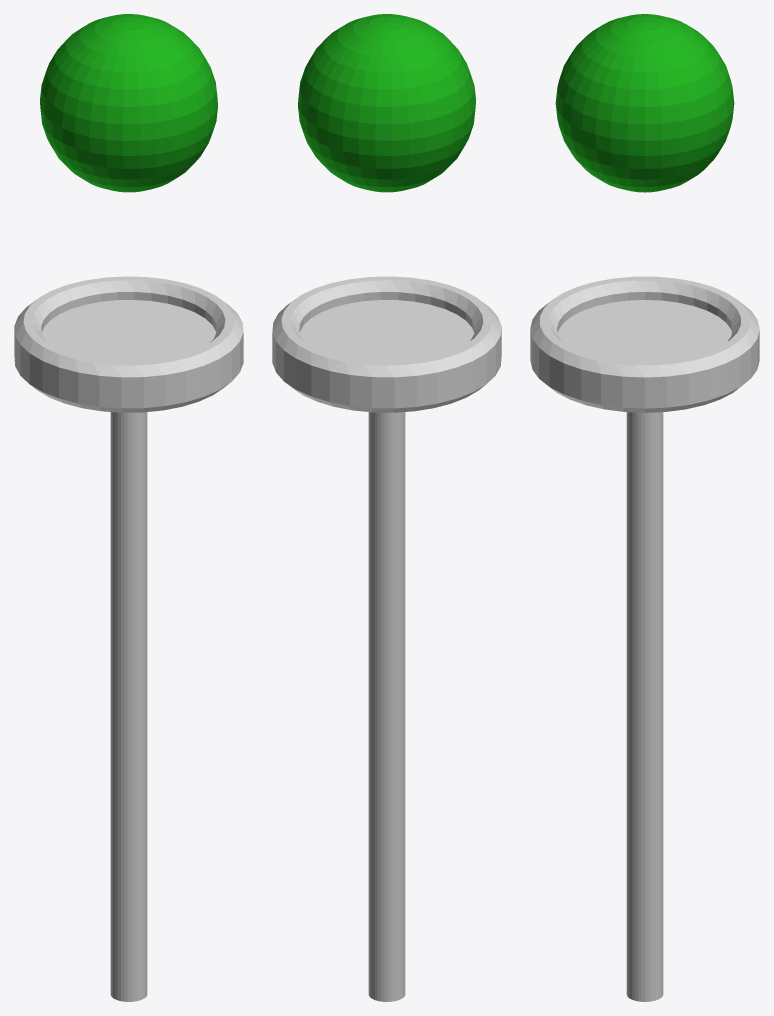
The model's file is track_sign.fbx.
The picture shows the model from 3 angles, left to right: view 1: azimuth 30°, elevation 25°; view 2: azimuth 150°, elevation 25°; view 3: azimuth 270°, elevation 25°; orthographic projection.
Parts seen in each view (by area): view 1: Base, Symbol; view 2: Base, Symbol; view 3: Base, Symbol.
Part boxes in pixels (x1=…): Base: x1=14, y1=276, x2=243, y2=1001; Symbol: x1=40, y1=14, x2=217, y2=192; Base: x1=272, y1=276, x2=501, y2=1001; Symbol: x1=298, y1=14, x2=475, y2=192; Base: x1=530, y1=276, x2=759, y2=1001; Symbol: x1=555, y1=14, x2=734, y2=192.
Size of the model in its own units: 16.51 by 77.11 by 16.51.
